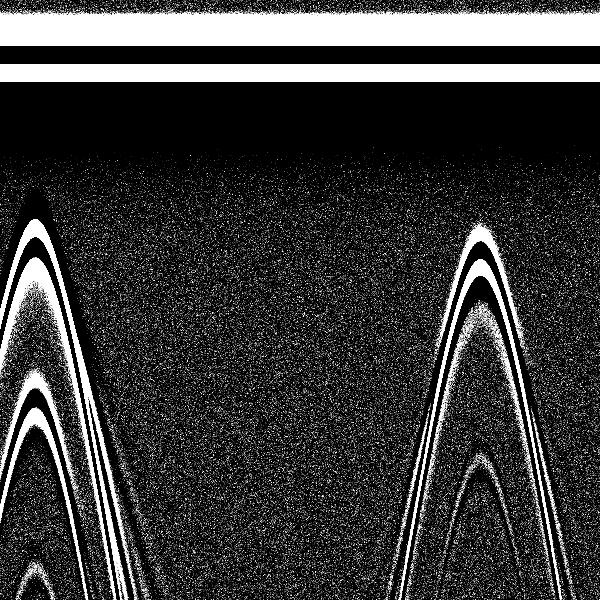pipe: (437, 5, 524, 318), (1, 5, 84, 318)
